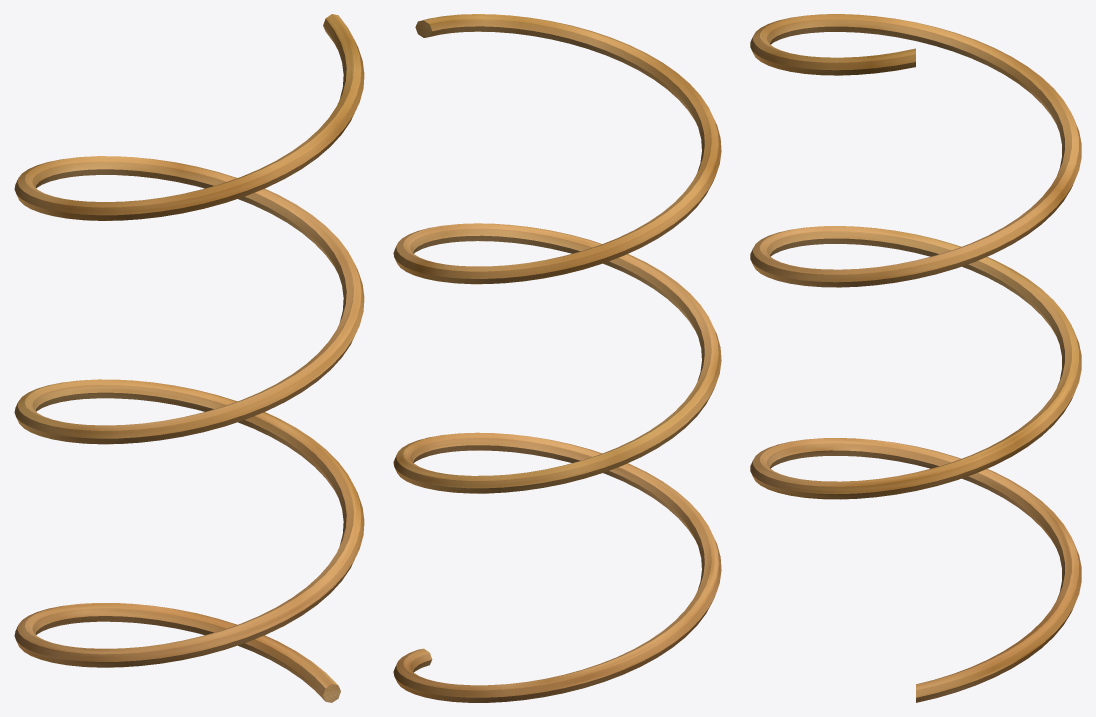
Rendered from woodhel.obj.
3 renders of one model, left to right at view 1: azimuth 30°, elevation 25°; view 2: azimuth 150°, elevation 25°; view 3: azimuth 270°, elevation 25°, orthographic. The views are drawn at different scales.
Parts seen in each view (by area): view 1: pHelix1; view 2: pHelix1; view 3: pHelix1.
Part boxes in pixels (bbox=[...]): pHelix1: bbox=[14, 14, 364, 702]; pHelix1: bbox=[393, 14, 721, 702]; pHelix1: bbox=[750, 14, 1081, 702].
Bounding box in the file's own units: 3.35 × 7.28 × 3.35.
Materials: 1 (1 with a texture image).
